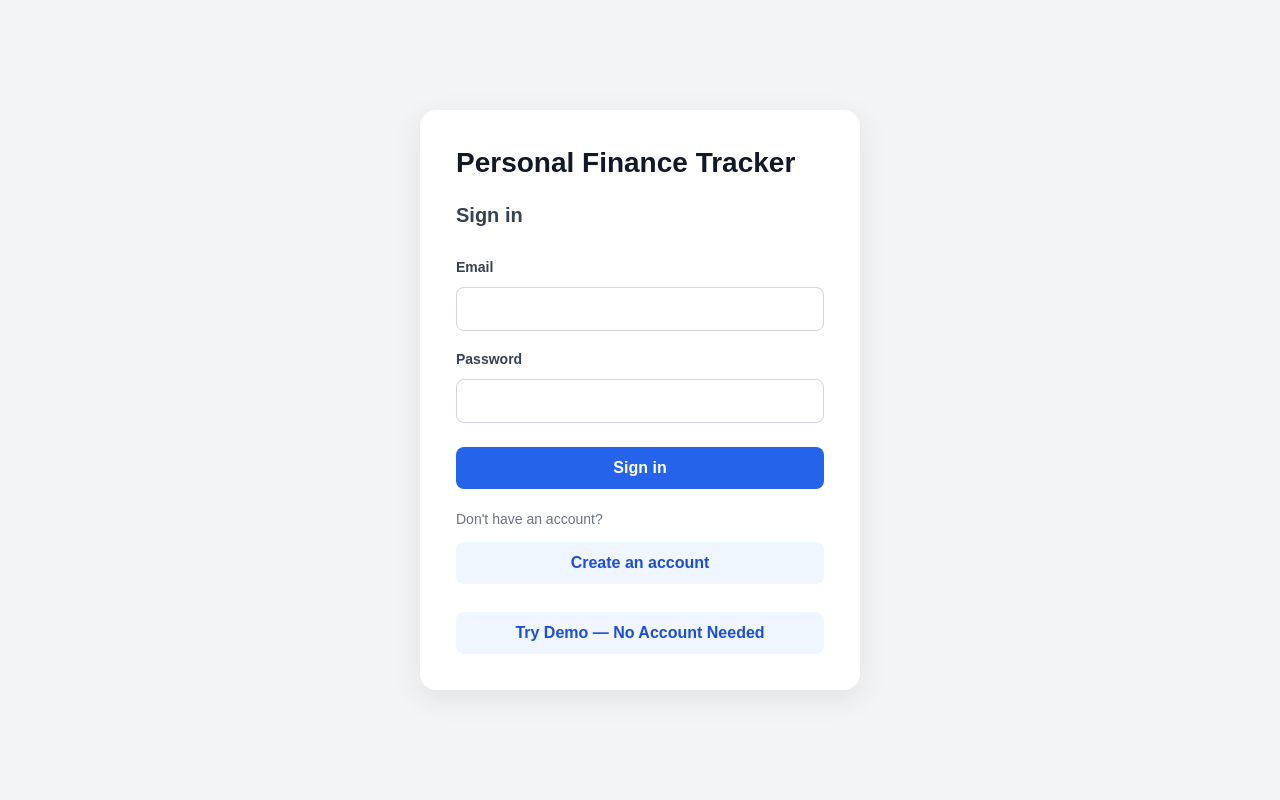
displays an error when the API request fails
In the field labelled "Email": (640, 309) left=456, top=287, right=824, bottom=331, type "test@example.com"
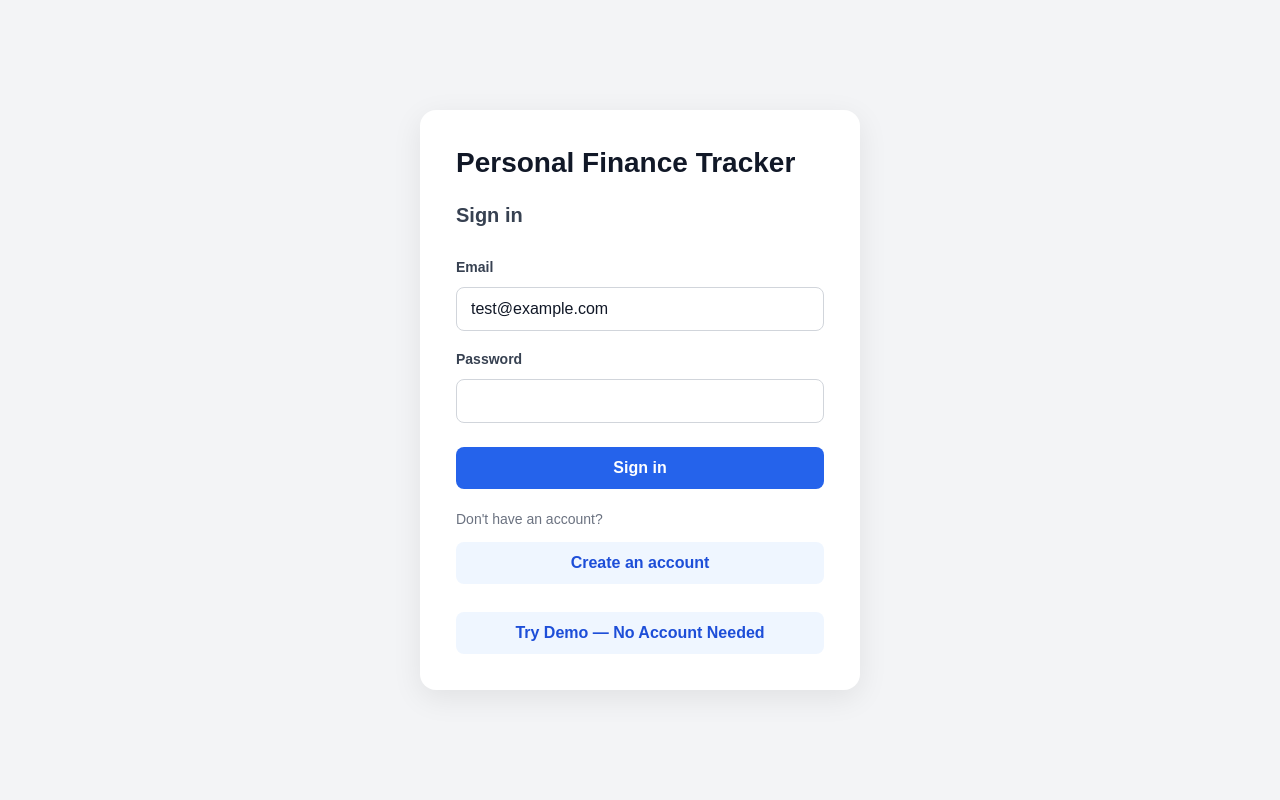
In the password field labelled "Password": (640, 401) left=456, top=379, right=824, bottom=423, type "test-password"
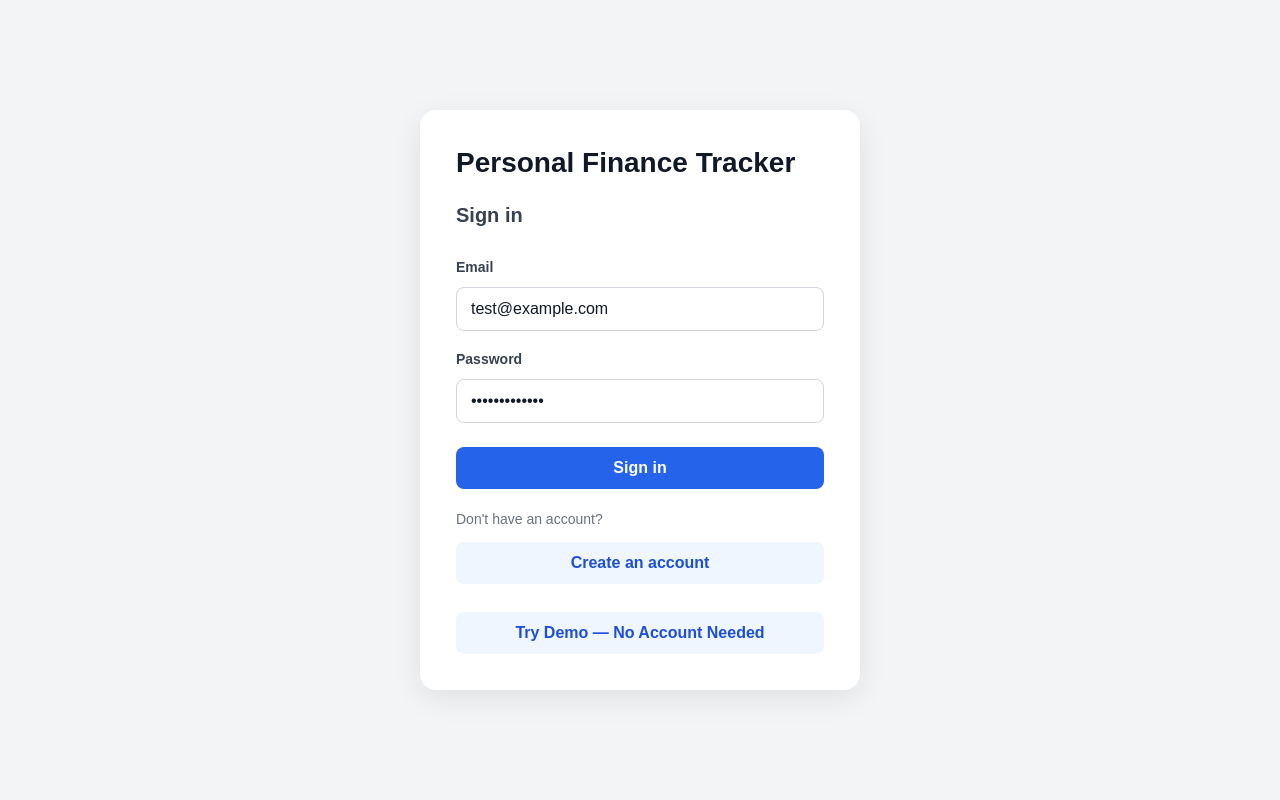
Click the button "Sign in": (640, 468) left=456, top=447, right=824, bottom=489
(page scrolled)
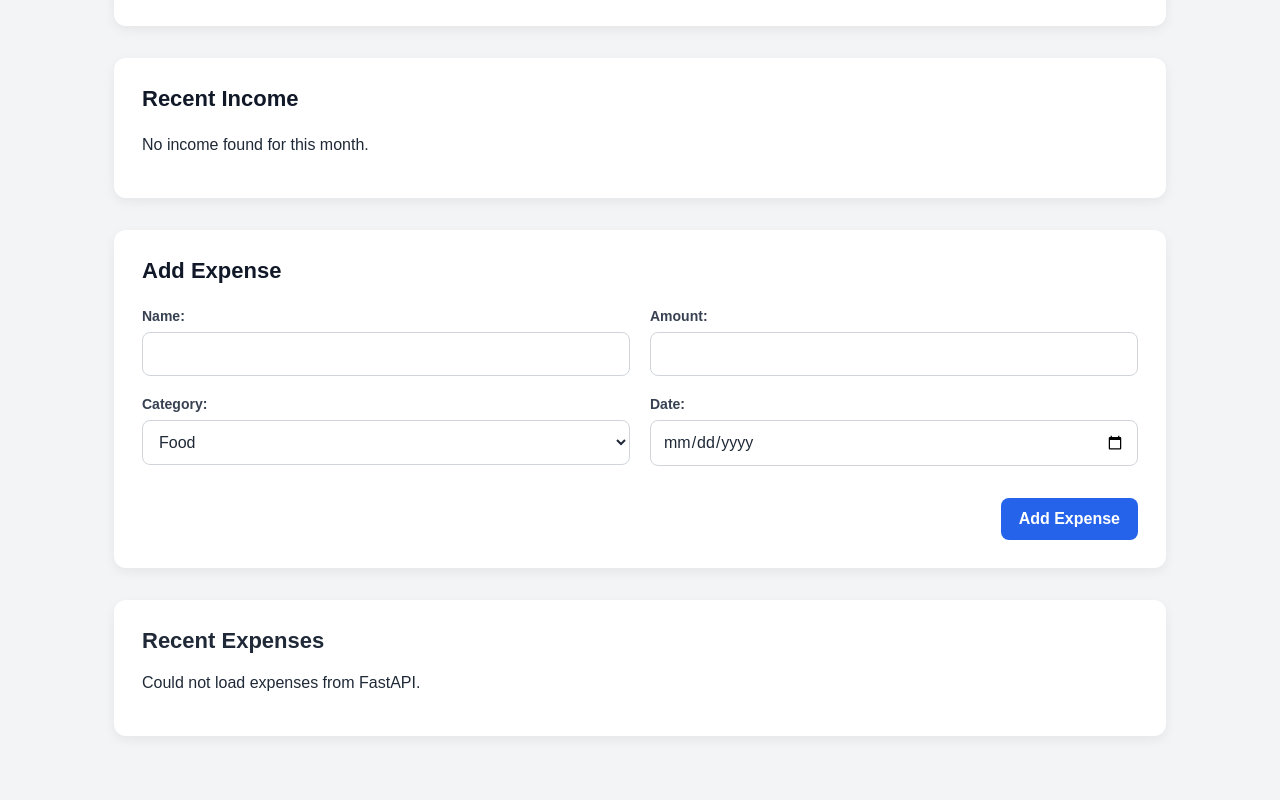
Expected: the message shows "Could not load expenses from FastAPI", left=142, top=674, right=420, bottom=691
